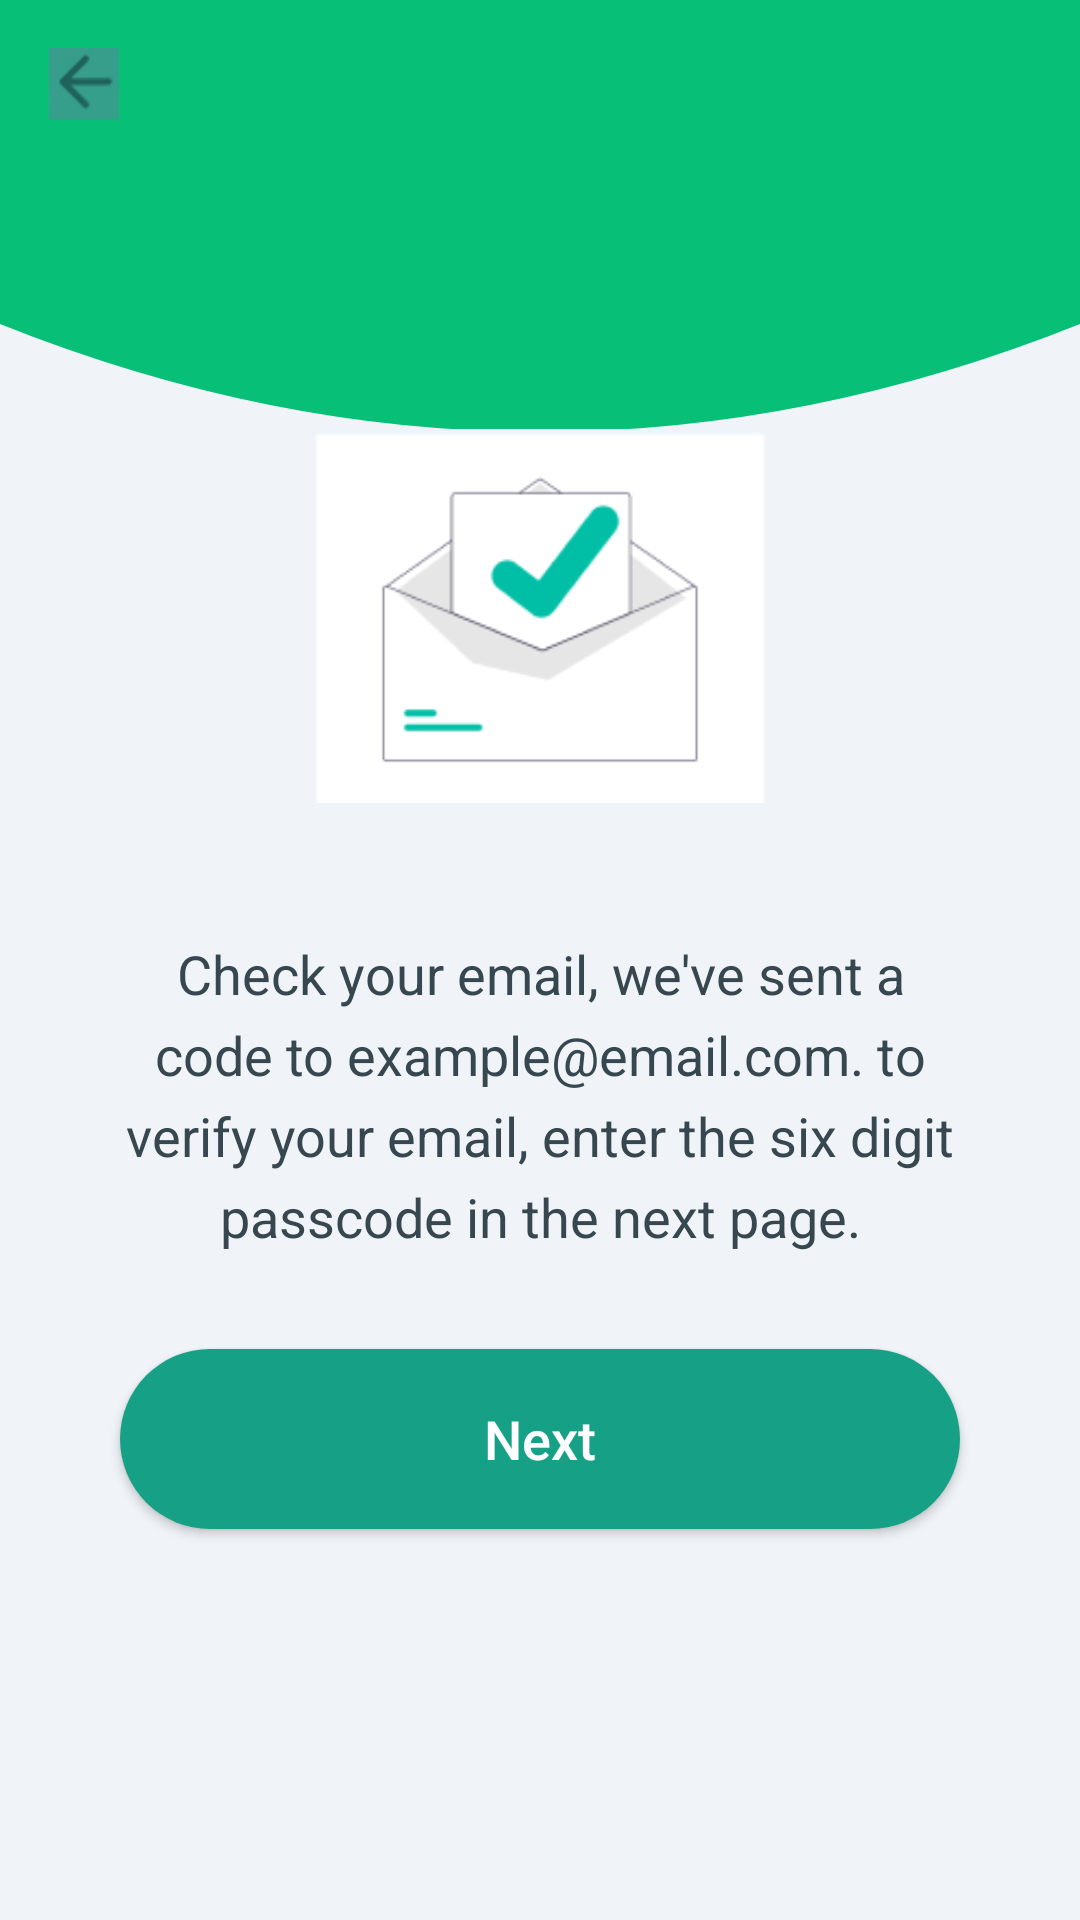

Where icons sit on this 1080w x 1920h app screen, as (x1, y1, x2, y2):
Back: (49, 48, 119, 120)
